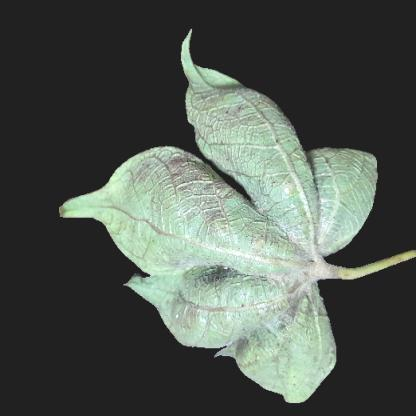curl_stage2: (267, 161, 341, 254), (208, 85, 272, 167), (272, 321, 326, 393), (165, 233, 257, 275), (255, 255, 303, 334), (166, 277, 219, 333), (101, 193, 156, 243), (217, 283, 255, 341)
sooty: (153, 158, 229, 230)
